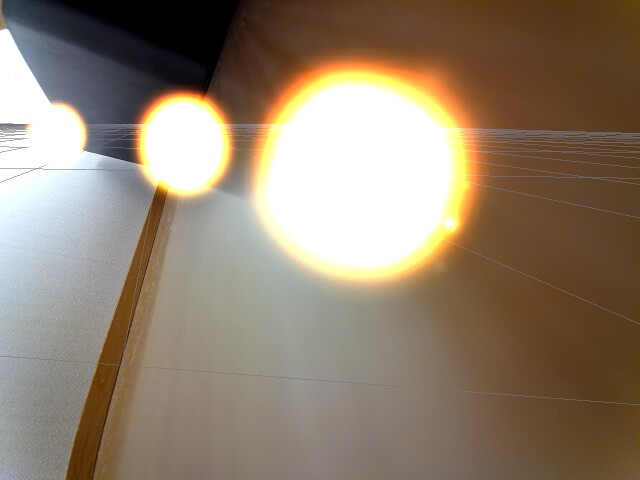firebig: (247, 56, 505, 301)
